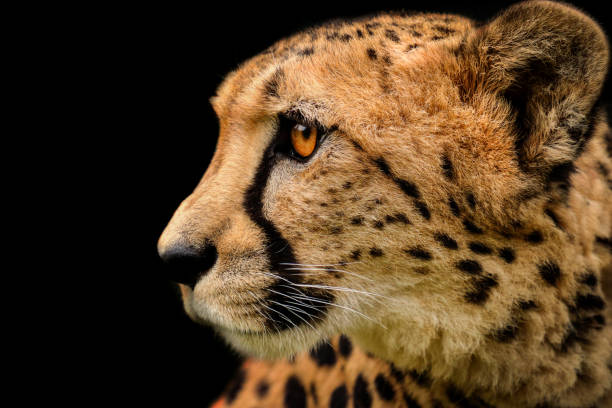cheetah: (151, 4, 612, 392)
